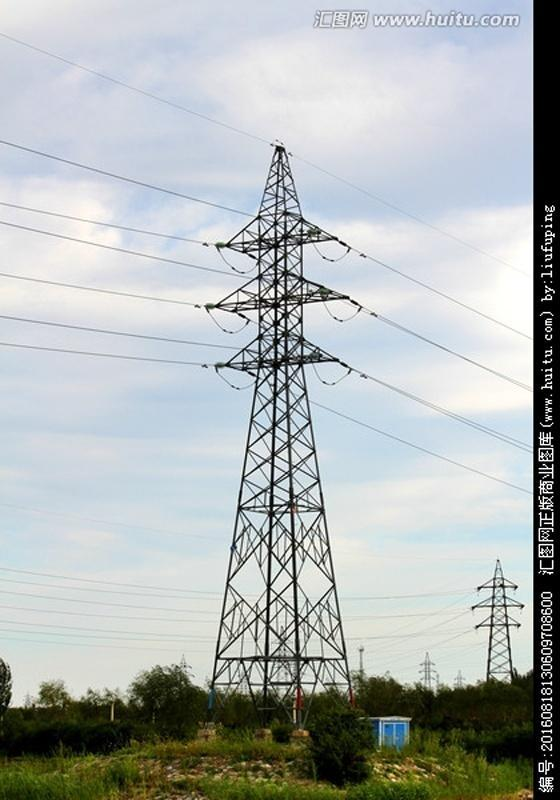power_tower: (196, 140, 377, 710), (471, 560, 527, 684), (416, 649, 439, 684), (450, 668, 466, 688)
